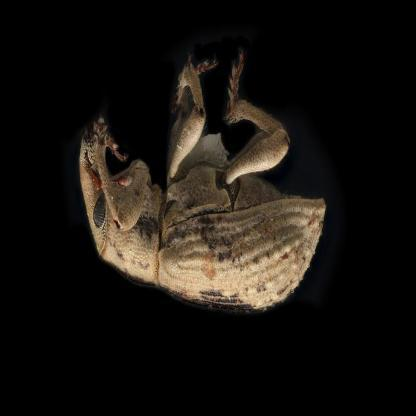rice-bug: (78, 50, 336, 312)
